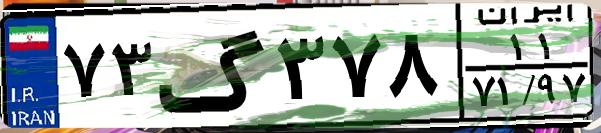1: (537, 27, 568, 80), (508, 27, 537, 80), (495, 70, 520, 125)
3: (270, 28, 330, 110), (110, 28, 156, 98)
7: (330, 28, 385, 110), (57, 26, 110, 100), (560, 70, 590, 125), (470, 70, 495, 125)
8: (385, 28, 445, 110)
9: (535, 70, 560, 125)
گ: (156, 12, 270, 120)
